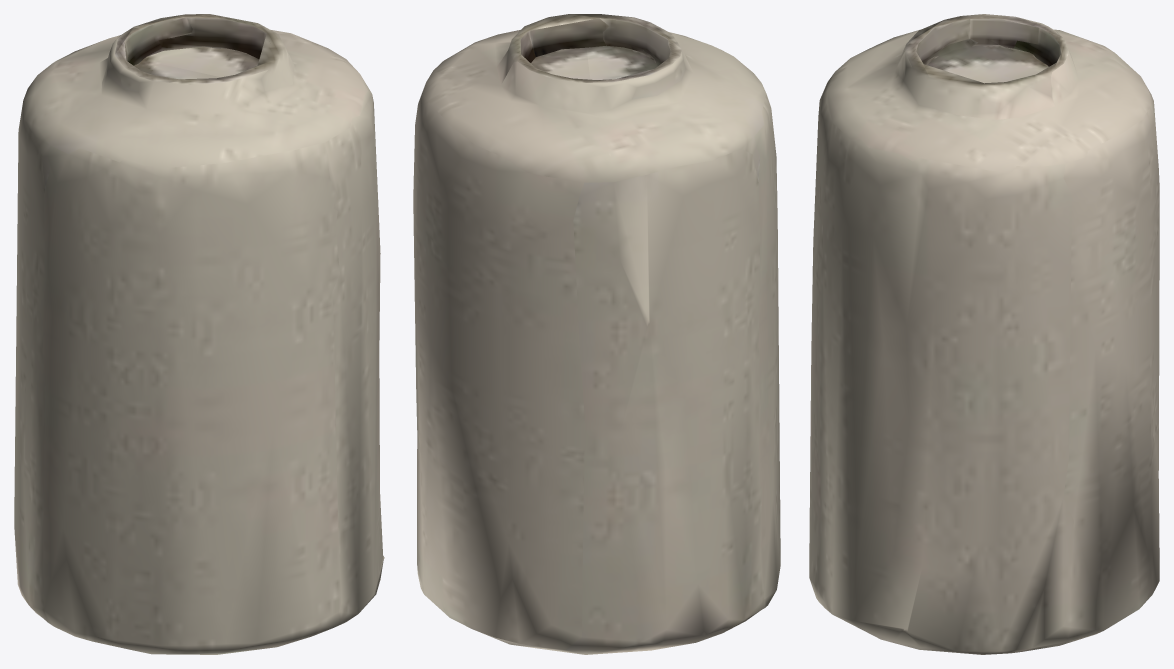
File: vase.lod2.glb
3 renders of one model, left to right at view 1: azimuth 30°, elevation 25°; view 2: azimuth 150°, elevation 25°; view 3: azimuth 270°, elevation 25°, orthographic.
Parts seen in each view (by area): view 1: geometry_0; view 2: geometry_0; view 3: geometry_0.
Boxes of the visible parts, x1,y1,x2,y2 form: geometry_0: (14,14,384,654); geometry_0: (413,14,780,654); geometry_0: (809,14,1159,654).
Size of the model in its own units: 0.1248 by 0.1998 by 0.1191.
1 material, 1 textured.
